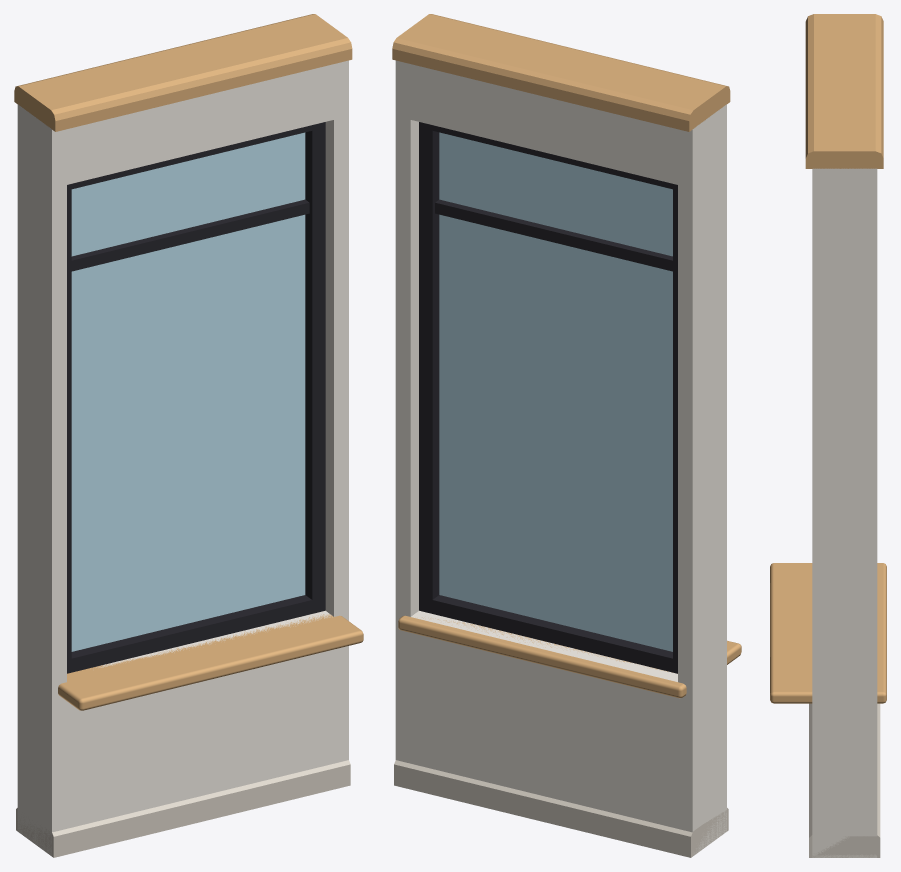
Rendered from wand_voll_fenster.glb.
3 views of the same model, side by side, from view 1: azimuth 30°, elevation 25°; view 2: azimuth 150°, elevation 25°; view 3: azimuth 270°, elevation 25° (orthographic). The views are drawn at different scales.
Visible parts, largest first — view 1: wand_voll_fenster; view 2: wand_voll_fenster; view 3: wand_voll_fenster.
Boxes of the visible parts, <box> form: wand_voll_fenster: <box>14,14,363,857</box>; wand_voll_fenster: <box>392,14,741,857</box>; wand_voll_fenster: <box>770,14,886,857</box>.
Size of the model in its own units: 1 by 2.4 by 0.36.
